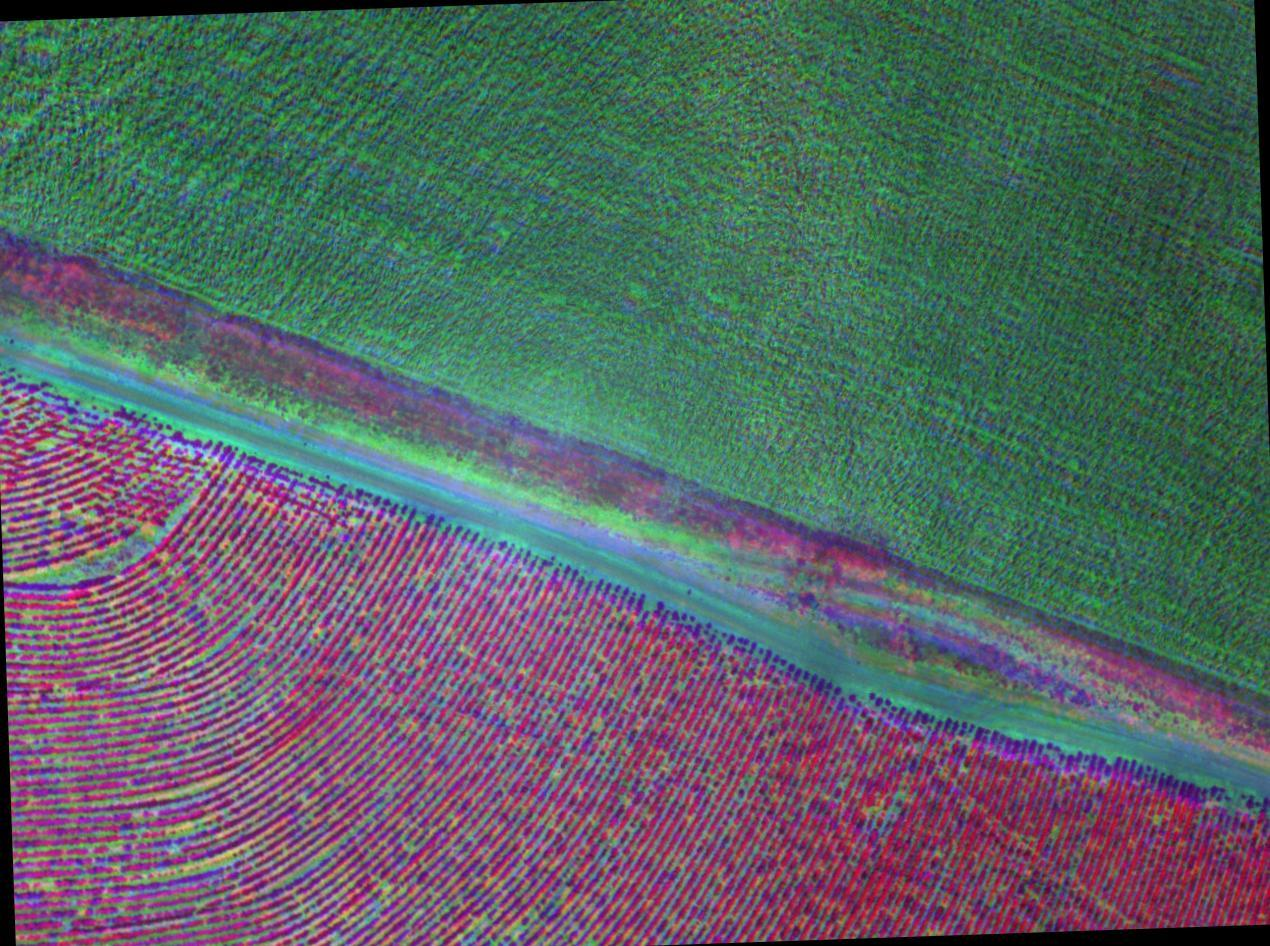dc: (8, 478, 206, 607), (313, 833, 525, 946), (91, 785, 258, 891), (248, 598, 323, 664)
